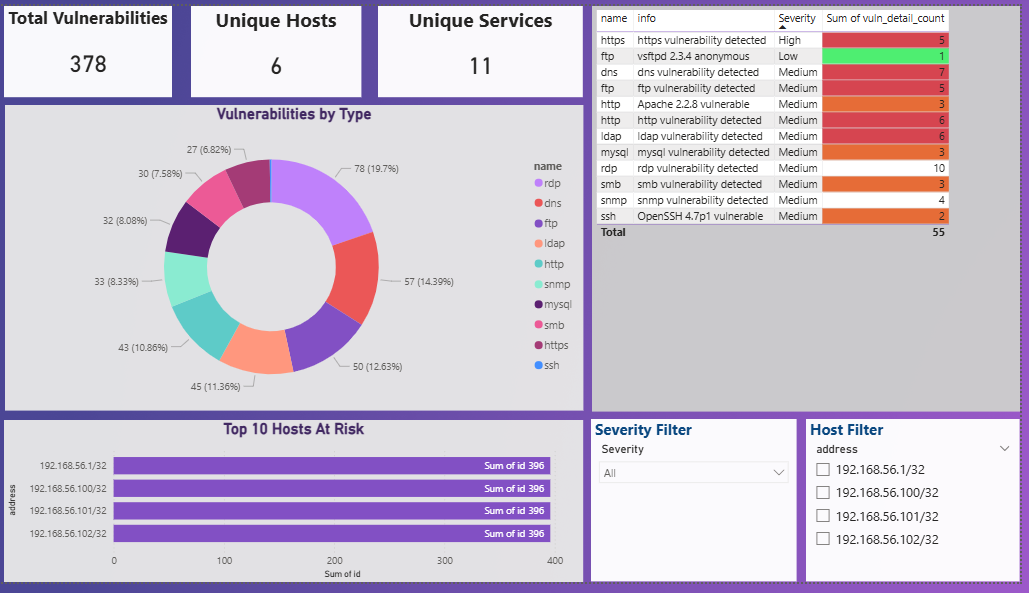

The dashboard page shown, as its layout file describes it:
{"tool":"powerbi","page":{"name":"Dashboard","canvas":[1280,720],"ordinal":0},"visuals":[{"type":"donutChart","title":"Vulnerabilities by Type","fields":{"Category":["public vulns.name"],"Y":["Sum(public vulns.id)"]},"box":[11.7,124.1,723,382.5],"z":0},{"type":"clusteredBarChart","title":"Top 10 Hosts At Risk","fields":{"Category":["public hosts.address"],"Y":["Sum(public vulns.id)"]},"box":[10,517.1,724.3,202.9],"z":1000},{"type":"tableEx","fields":{"Values":["public vulns.name","public vulns.info","public vulns.Severity","Sum(public vulns.vuln_detail_count)"]},"box":[745,0,535,301.2],"z":2000},{"type":"slicer","title":"Severity Filter","fields":{"Values":["public vulns.Severity"]},"box":[744.3,516.4,257.4,203.3],"z":3000},{"type":"slicer","title":"Host Filter","fields":{"Values":["public hosts.address"]},"box":[1013.1,516.4,267.2,203.3],"z":4000},{"type":"card","title":"Total Vulnerabilities","fields":{"Values":["Sum(public services.id)"]},"box":[10,0,210,113.8],"z":5000},{"type":"card","title":"Unique Hosts","fields":{"Values":["public vulns.Unique Hosts"]},"box":[243.8,0,212.5,113.8],"z":6000},{"type":"card","title":"Unique Services","fields":{"Values":["public hosts.Unique Services"]},"box":[477.5,0,256.2,113.8],"z":7000}]}

Visuals, with their boxes in screenshot pixels (x1, y1, x2, y2), scaled from the page's 1280x720 canvas onto the 1029x593 screenshot:
"Vulnerabilities by Type" donutChart: rect(9, 102, 591, 417)
"Top 10 Hosts At Risk" clusteredBarChart: rect(8, 426, 590, 592)
tableEx - public vulns.name x public vulns.info: rect(599, 0, 1028, 248)
"Severity Filter" slicer: rect(598, 425, 805, 592)
"Host Filter" slicer: rect(814, 425, 1028, 592)
"Total Vulnerabilities" card: rect(8, 0, 177, 94)
"Unique Hosts" card: rect(196, 0, 367, 94)
"Unique Services" card: rect(384, 0, 590, 94)
